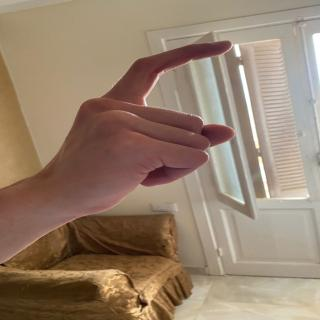RAA: (53, 29, 263, 204)
